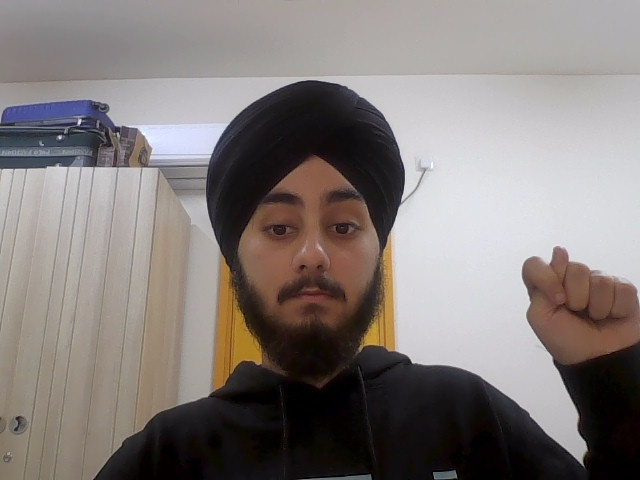Bathroom: (517, 243, 640, 355)
